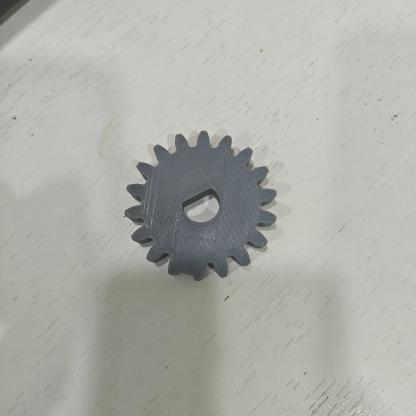defect: (167, 172, 221, 219), (164, 245, 209, 285)
gear: (102, 120, 297, 296)
